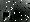person: (4, 10, 10, 20), (8, 11, 13, 21)
